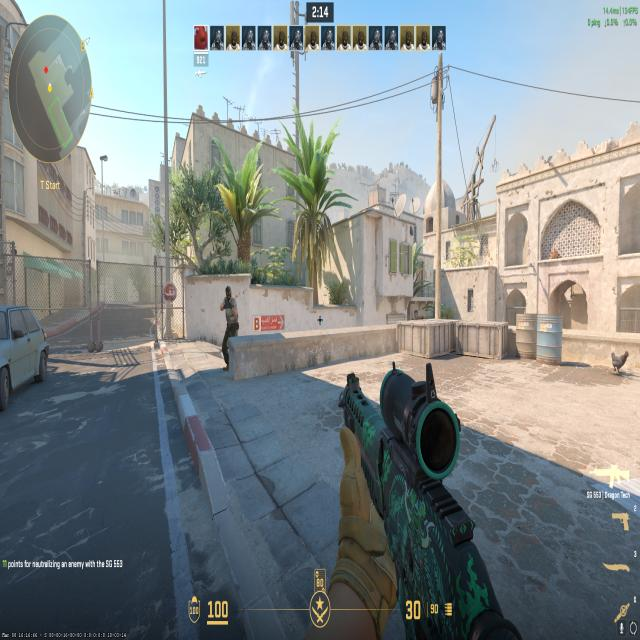t: (219, 286, 240, 350)
